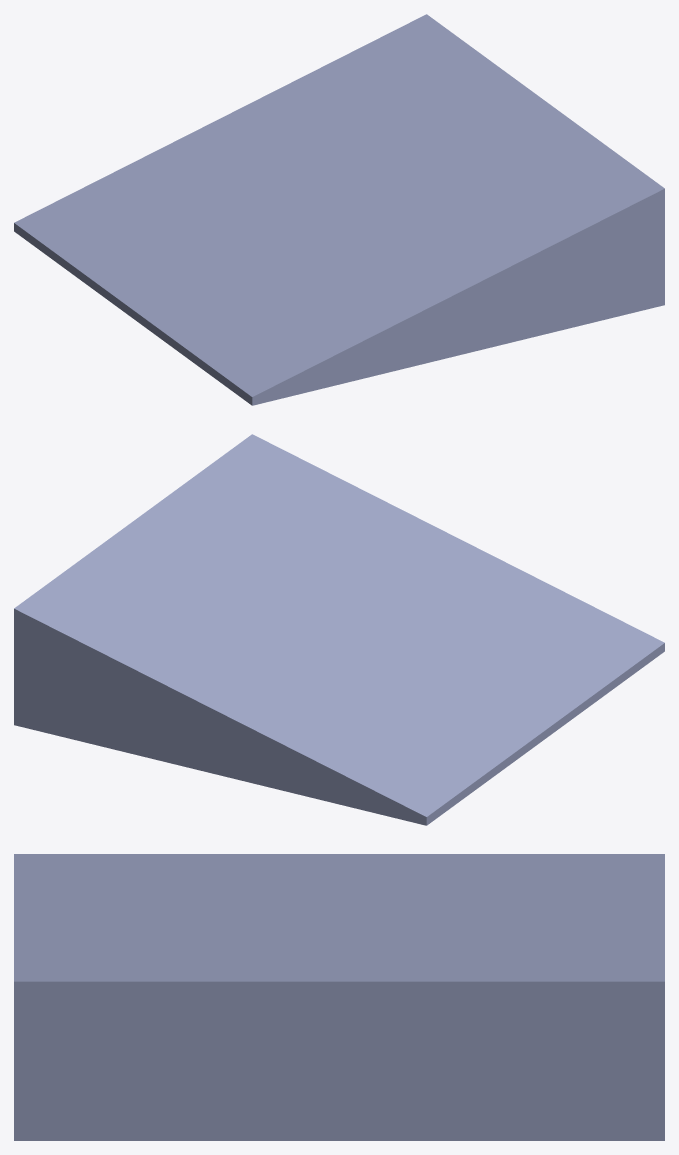
The model's file is tile-slant.glb.
3 views of the same model, one above another, from view 1: azimuth 30°, elevation 25°; view 2: azimuth 150°, elevation 25°; view 3: azimuth 270°, elevation 25° (orthographic). The views are drawn at different scales.
Parts seen in each view (by area): view 1: tile-slant; view 2: tile-slant; view 3: tile-slant.
Part boxes in pixels (x1,y1,x2,y2): tile-slant: [14, 14, 664, 405]; tile-slant: [14, 434, 664, 825]; tile-slant: [14, 854, 664, 1140].
Bounding box in the file's own units: 1 × 0.27 × 1.
Materials: 1 (1 with a texture image).
